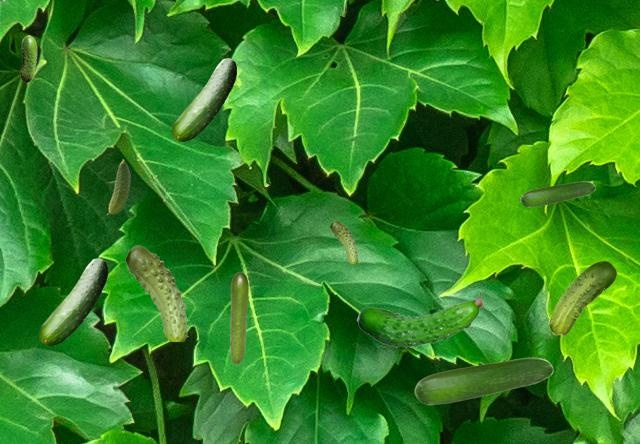cucumber: (356, 291, 482, 347), (414, 357, 552, 404), (125, 245, 187, 340), (39, 258, 106, 344), (172, 58, 235, 140), (549, 261, 615, 334), (520, 181, 594, 206), (230, 272, 247, 363), (105, 159, 129, 214), (330, 220, 357, 262), (20, 35, 36, 81)
